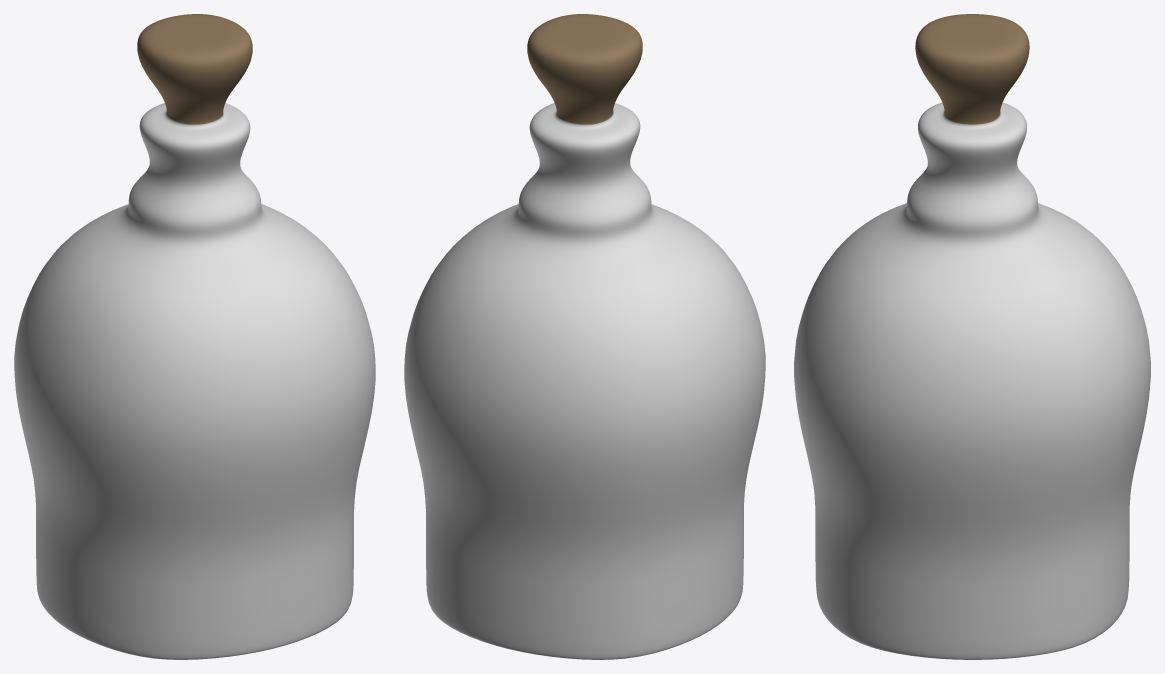
The model's file is soul.fbx.
3 views of the same model, side by side, from view 1: azimuth 30°, elevation 25°; view 2: azimuth 150°, elevation 25°; view 3: azimuth 270°, elevation 25° (orthographic).
Visible parts, largest first — view 1: Cube; view 2: Cube; view 3: Cube.
Part boxes in pixels (bbox=[...]): Cube: bbox=[14, 14, 375, 659]; Cube: bbox=[404, 14, 765, 659]; Cube: bbox=[794, 14, 1150, 659].
Bounding box in the file's own units: 132 × 235 × 132.
